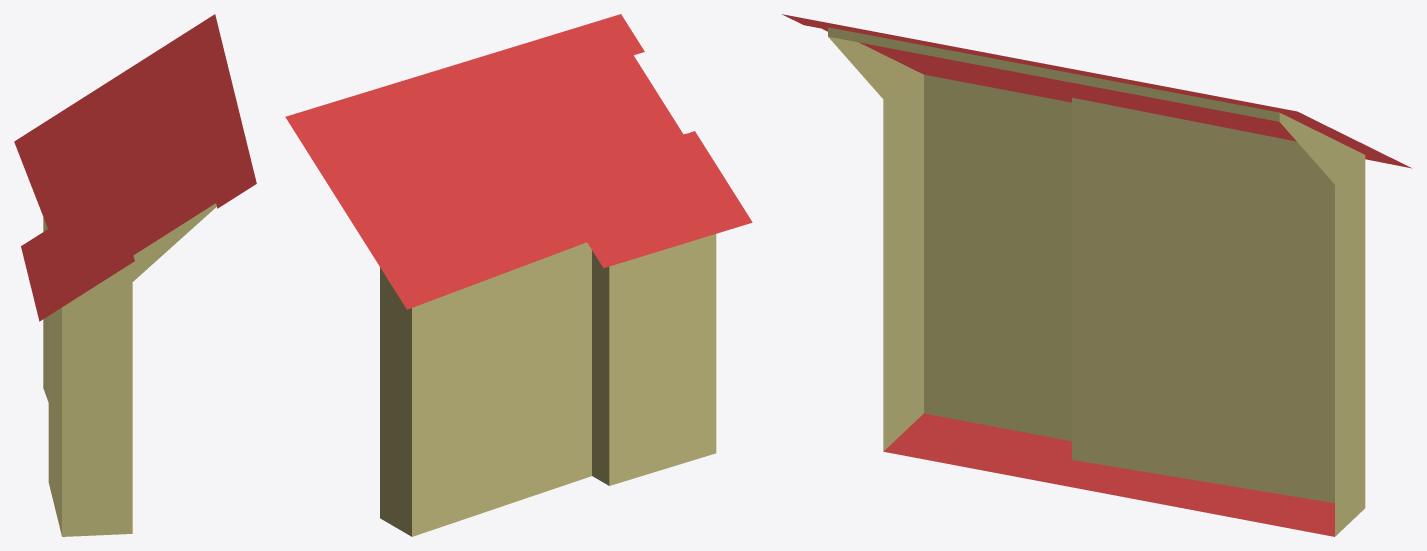
3 views of the same model, side by side, from view 1: azimuth 30°, elevation 25°; view 2: azimuth 150°, elevation 25°; view 3: azimuth 270°, elevation 25° (orthographic). The views are drawn at different scales.
Size of the model in its own units: 10.77 by 13.34 by 11.59.
